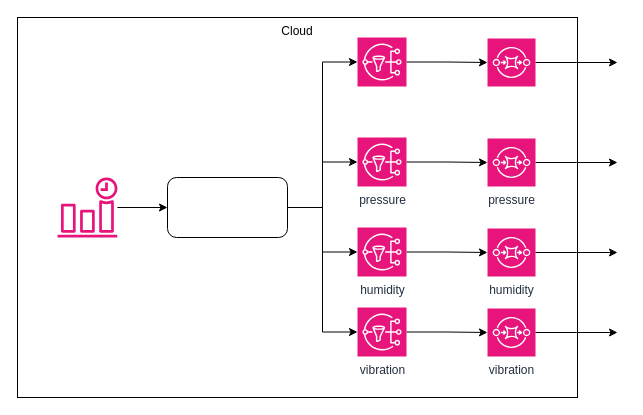
This 643x415 diagram has some shape labels left out. Each missing label, with the box of its shape:
Scheduled Cloudwatch: (57, 177, 117, 237)
Simulator instance: (166, 176, 288, 238)
temperatiure: (486, 38, 536, 86)
temperature: (356, 36, 406, 86)
